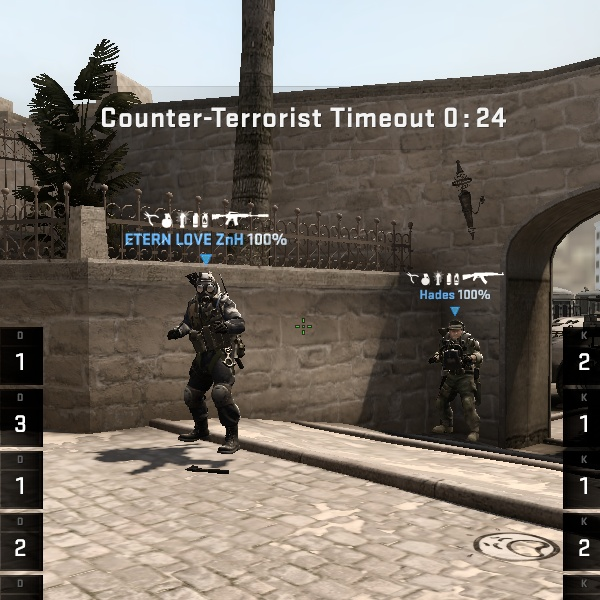ct_body: (159, 270, 258, 450), (418, 312, 496, 447)
ct_head: (183, 266, 233, 314), (438, 314, 477, 349)
